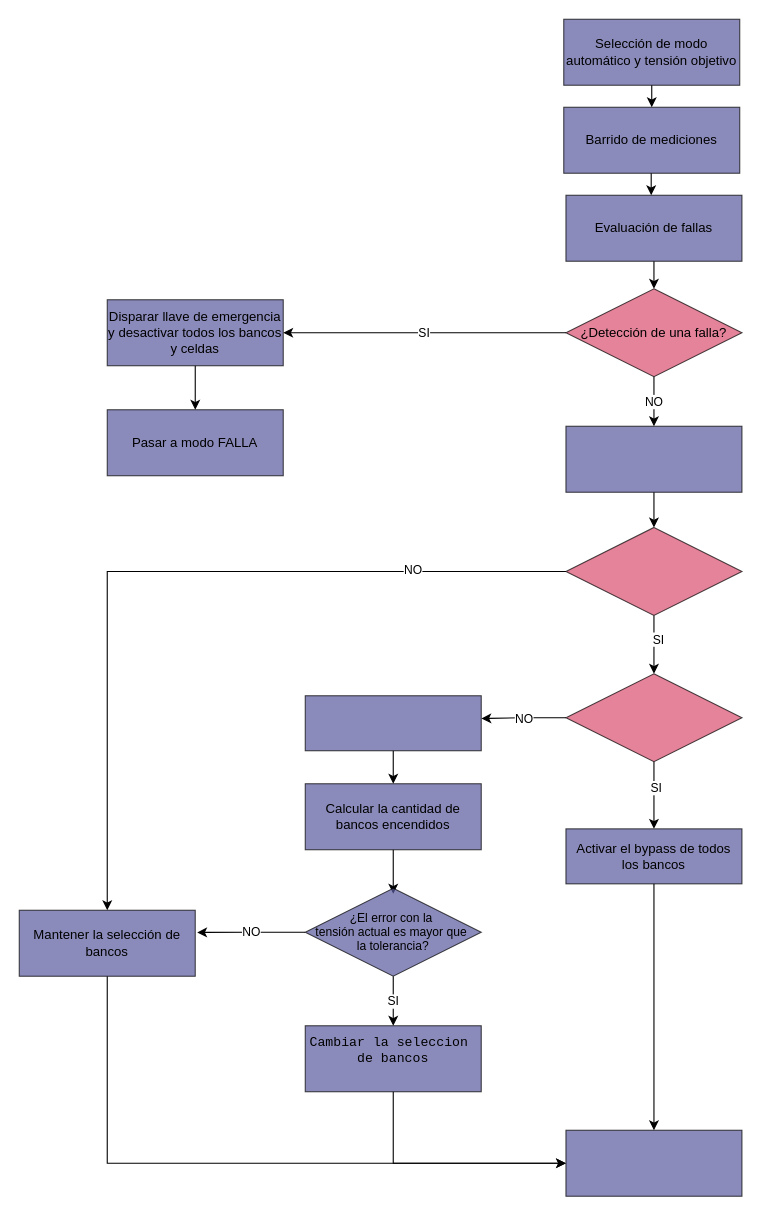
Image size: 761x1216. Some labels were removed from this diagram. Each missing label, with the centre of its shape:
Aplicar cambios y esperar a la proxima selección: the point at 653,1162
Estimación inicial de tensiones: the point at 653,458
Ordenar los bancos por mayor tensión: the point at 392,723
¿ Primera iteración, cambio de objetivo o de tensiones?: the point at 653,570
¿La tensión objetivo es igual a cero?: the point at 653,717
